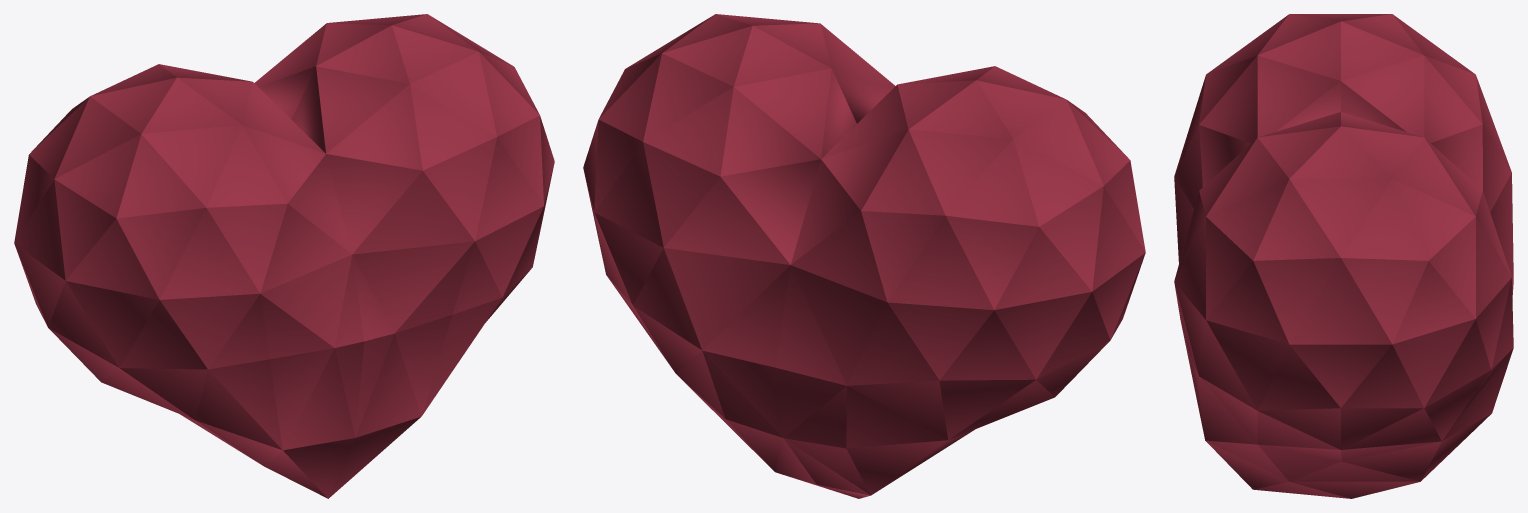
File: vfxHeart.glb
3 views of the same model, side by side, from view 1: azimuth 30°, elevation 25°; view 2: azimuth 150°, elevation 25°; view 3: azimuth 270°, elevation 25° (orthographic). The views are drawn at different scales.
Visible parts, largest first — view 1: Heart; view 2: Heart; view 3: Heart.
Part boxes in pixels (left/top/right/bottom): Heart: left=14, top=14, right=554, bottom=498; Heart: left=583, top=14, right=1145, bottom=498; Heart: left=1174, top=14, right=1513, bottom=498.
Size of the model in its own units: 0.8743 by 0.7251 by 0.525.
